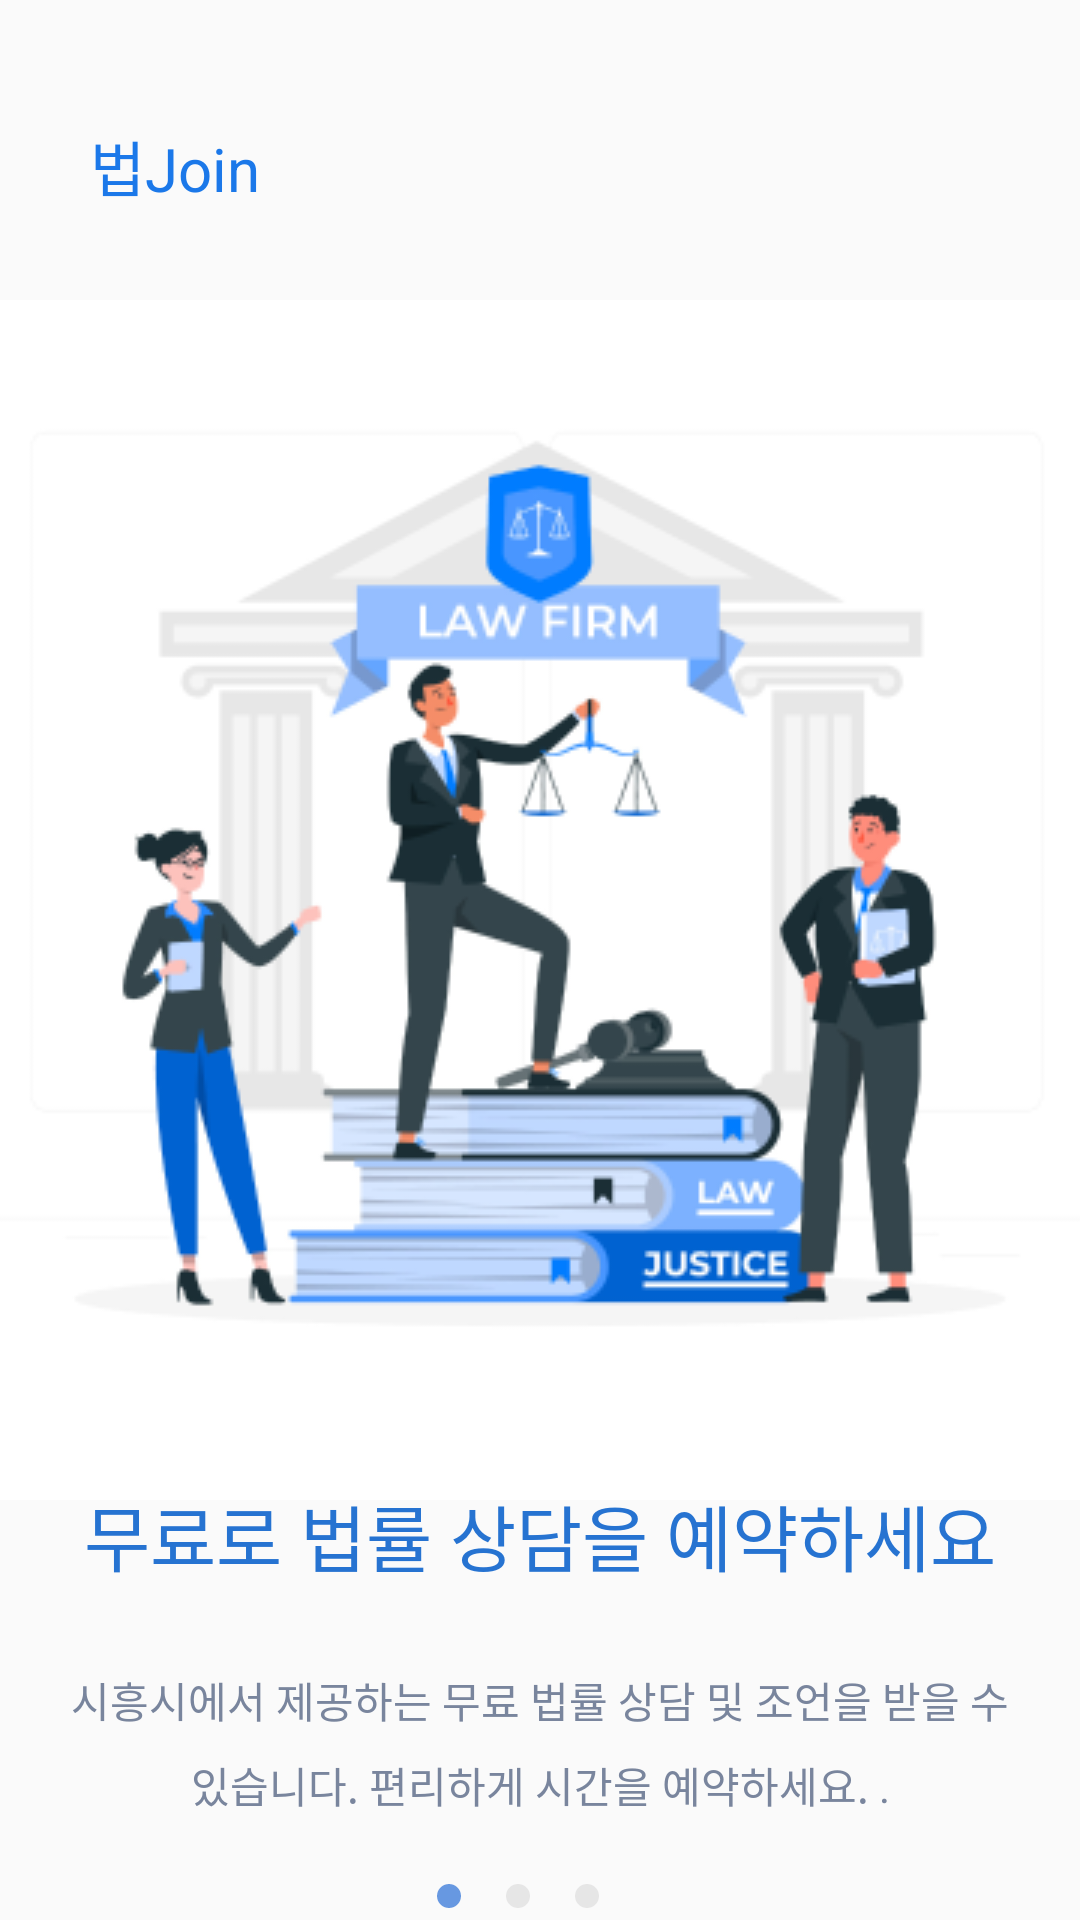

Icon bounding boxes for this 1080 x 1920 phone screenshot, format (x1, y1, x2, y2):
start page dot activated: (437, 1884, 461, 1908)
